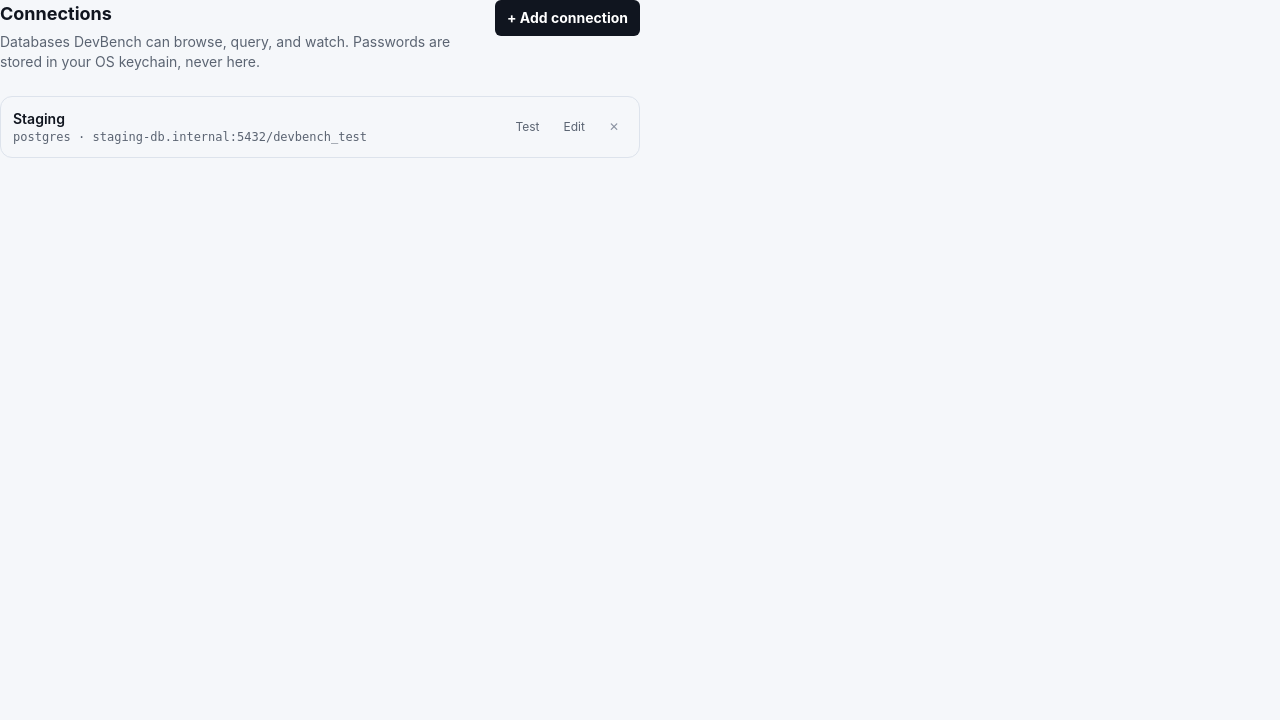
Test case: ConnectionsPane › opens an edit modal pre-filled with the connection's real values
Expected: the text "Staging" is shown, [13,110,65,127]
What coordinates should you click on to do the following:
click the button with aria-label "Edit Staging"
I would click on:
 (574, 127)
Its box is [556,115,593,139].
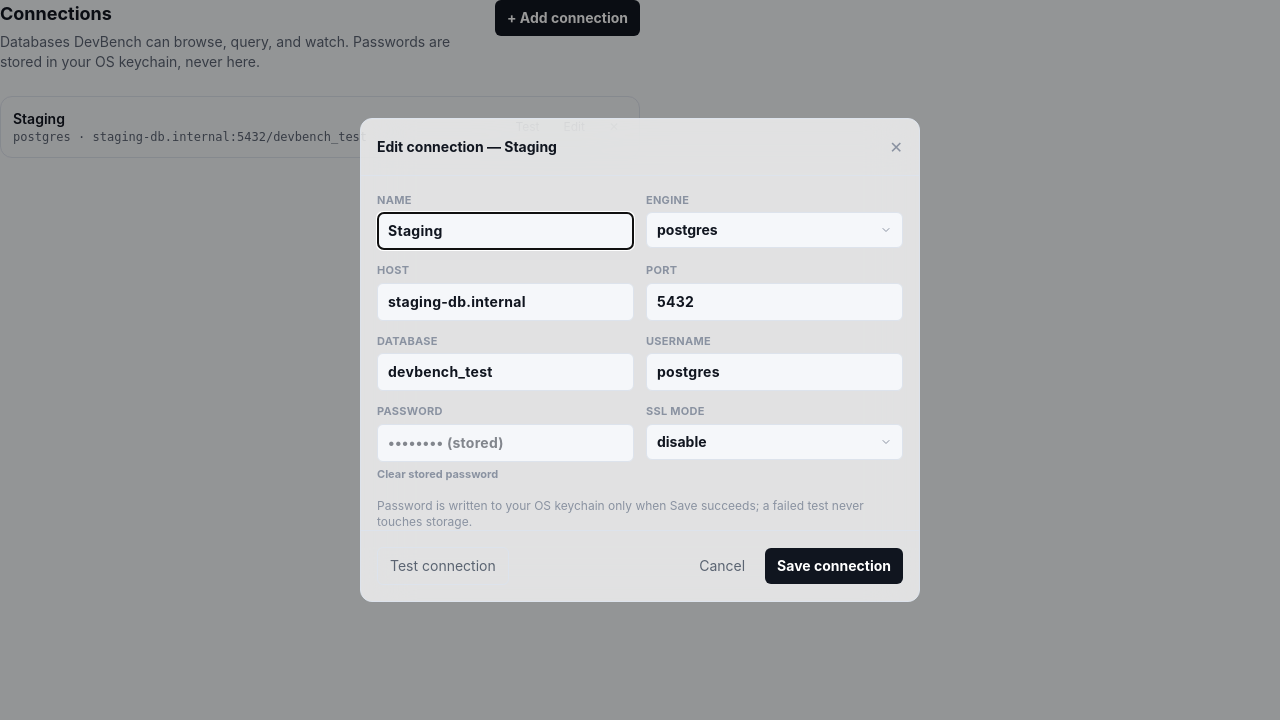
Now the heading "Edit connection — Staging" is shown, box [377,137,557,157]
Now the field showing "staging-db.internal" is shown, box [377,283,634,321]
